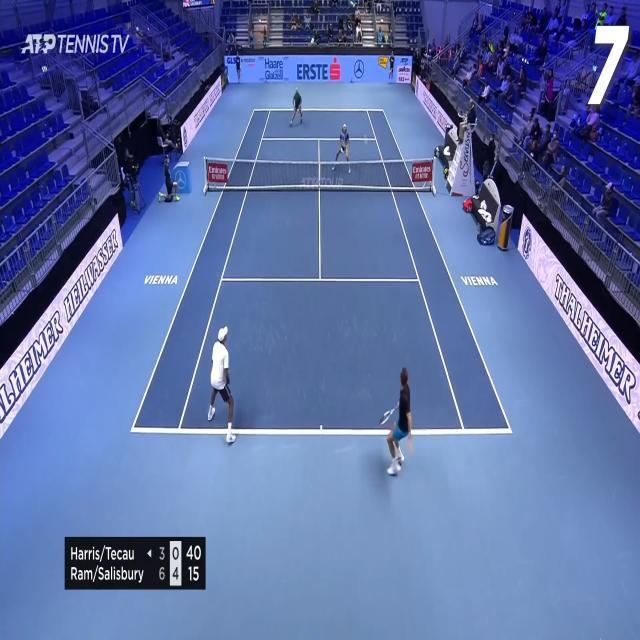court: (130, 108, 514, 434)
net: (204, 156, 436, 192)
player: (378, 366, 414, 476), (207, 324, 237, 446)
